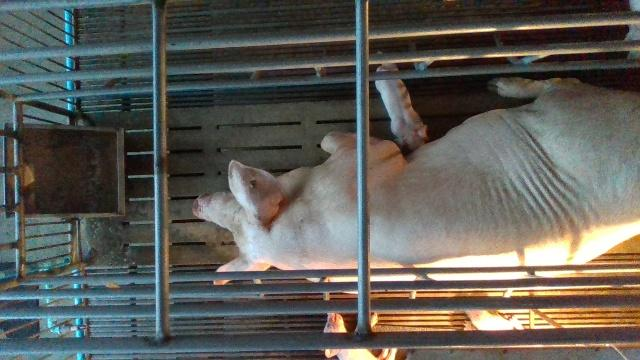piglet: (375, 63, 432, 149), (323, 312, 398, 360), (463, 310, 526, 331)
sow-sit: (192, 76, 640, 285)
